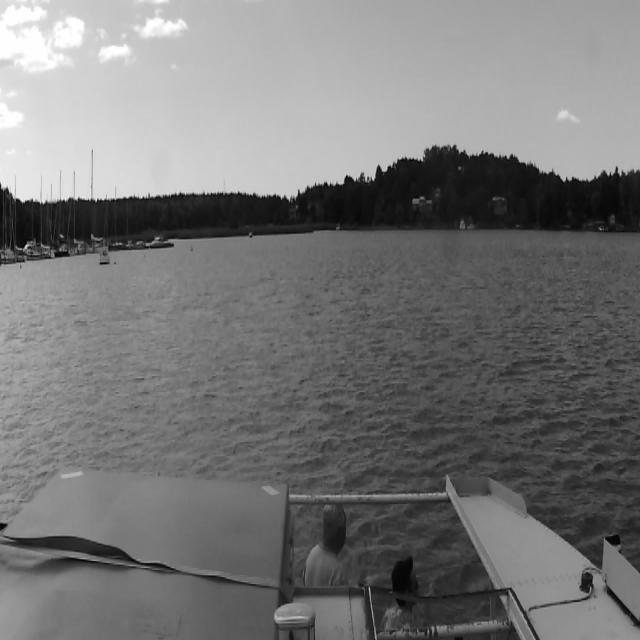ship: (58, 169, 72, 258), (72, 171, 86, 254), (88, 168, 99, 253), (110, 186, 124, 250), (100, 192, 110, 264), (125, 199, 135, 249), (150, 236, 174, 248), (132, 236, 146, 246)
